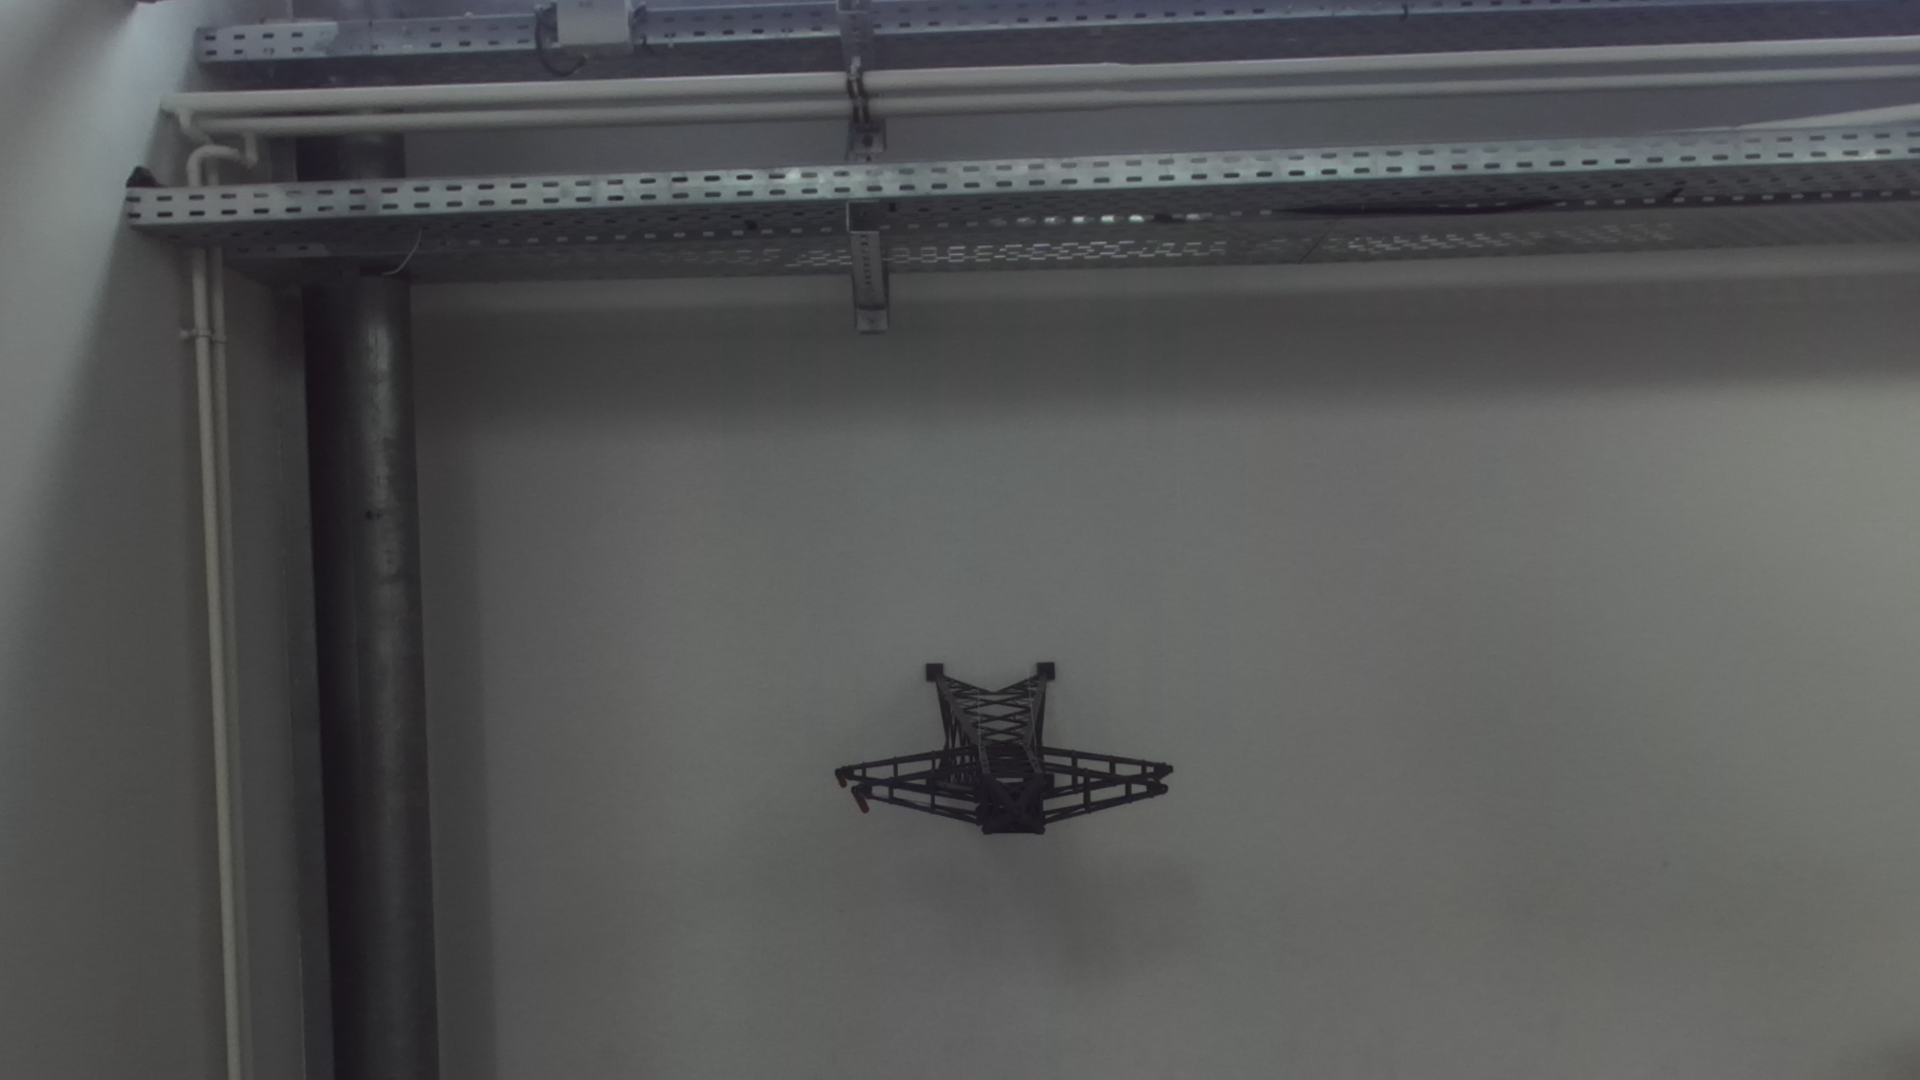pylon_phy: (849, 771, 1174, 841)
